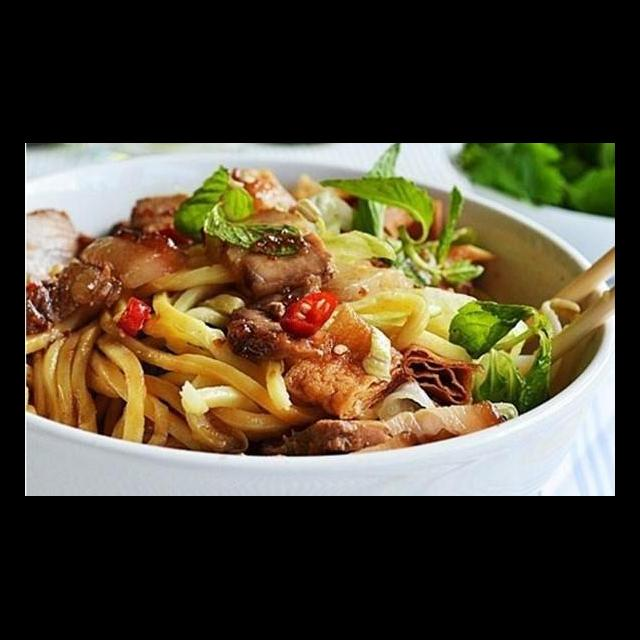banh da: (281, 300, 414, 428)
mi: (26, 258, 329, 458), (342, 282, 475, 369)
mi quang: (28, 179, 613, 496)
thit heo: (188, 162, 341, 304), (26, 222, 197, 338), (218, 262, 394, 366), (256, 396, 509, 466), (26, 204, 82, 298)
